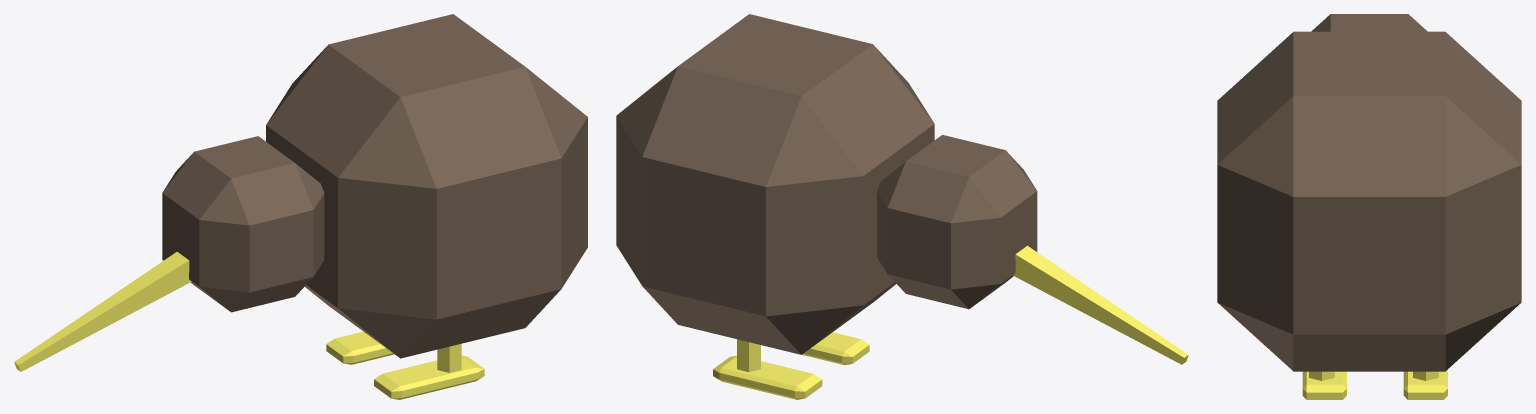
File: Kiwi.fbx
The picture shows the model from 3 angles, left to right: view 1: azimuth 30°, elevation 25°; view 2: azimuth 150°, elevation 25°; view 3: azimuth 270°, elevation 25°; orthographic projection. The views are drawn at different scales.
Visible parts, largest first — view 1: Kiwi_body, Kiwi_Head, Kiwi_Beak, Foot_L, Foot_R, Leg_L; view 2: Kiwi_body, Kiwi_Head, Kiwi_Beak, Foot_R, Foot_L, Leg_R; view 3: Kiwi_body, Kiwi_Head, Foot_R, Foot_L.
Part boxes in pixels (left/top/right/bottom): Kiwi_body: left=266, top=14, right=587, bottom=358; Kiwi_Head: left=162, top=136, right=324, bottom=312; Kiwi_Beak: left=14, top=252, right=191, bottom=371; Foot_L: left=374, top=355, right=484, bottom=399; Foot_R: left=326, top=331, right=394, bottom=364; Leg_L: left=437, top=343, right=461, bottom=372; Kiwi_body: left=616, top=14, right=934, bottom=354; Kiwi_Head: left=877, top=135, right=1037, bottom=309; Kiwi_Beak: left=1013, top=245, right=1188, bottom=364; Foot_R: left=713, top=355, right=822, bottom=399; Foot_L: left=802, top=332, right=869, bottom=365; Leg_R: left=737, top=339, right=760, bottom=371; Kiwi_body: left=1217, top=31, right=1521, bottom=371; Kiwi_Head: left=1311, top=14, right=1427, bottom=31; Foot_R: left=1403, top=369, right=1447, bottom=399; Foot_L: left=1302, top=371, right=1346, bottom=399.
Size of the model in its own units: 1.78 by 0.9735 by 0.8242.
